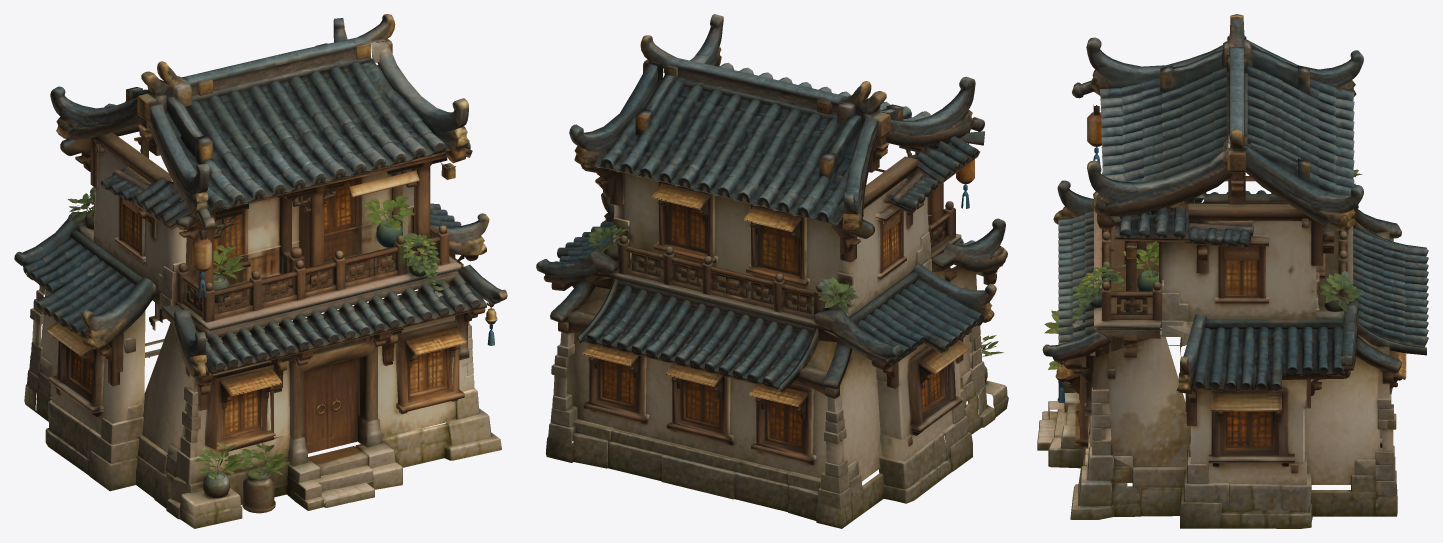
File: traditional chinese house 3d model.glb
The picture shows the model from 3 angles, left to right: view 1: azimuth 30°, elevation 25°; view 2: azimuth 150°, elevation 25°; view 3: azimuth 270°, elevation 25°; orthographic projection. The views are drawn at different scales.
Visible parts, largest first — view 1: tripo_6b37b8e1_10e1_4bf8_904a_1b7cc5904250; view 2: tripo_6b37b8e1_10e1_4bf8_904a_1b7cc5904250; view 3: tripo_6b37b8e1_10e1_4bf8_904a_1b7cc5904250.
Boxes of the visible parts, x1,y1,x2,y2 form: tripo_6b37b8e1_10e1_4bf8_904a_1b7cc5904250: [14, 14, 507, 528]; tripo_6b37b8e1_10e1_4bf8_904a_1b7cc5904250: [536, 14, 1008, 528]; tripo_6b37b8e1_10e1_4bf8_904a_1b7cc5904250: [1037, 14, 1428, 528].
Bounding box in the file's own units: 0.9995 × 0.9116 × 0.8472.
1 material, 1 textured.
